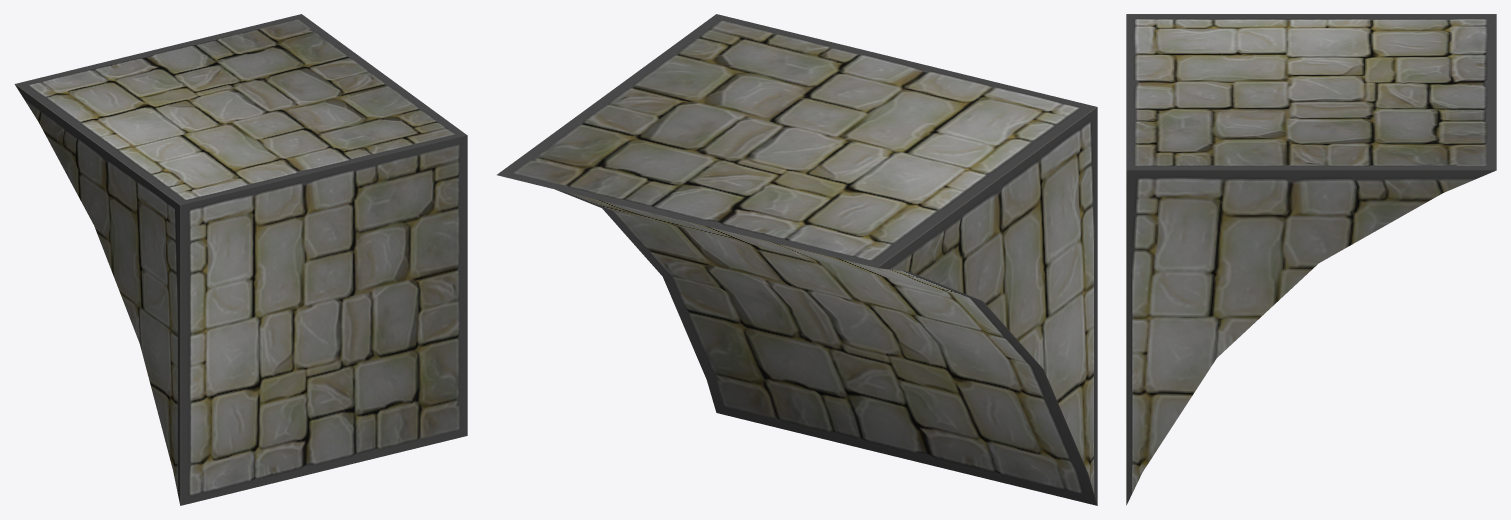
File: POL0310010.fbx
3 renders of one model, left to right at view 1: azimuth 30°, elevation 25°; view 2: azimuth 150°, elevation 25°; view 3: azimuth 270°, elevation 25°, orthographic. The views are drawn at different scales.
Visible parts, largest first — view 1: smPOL0310010; view 2: smPOL0310010; view 3: smPOL0310010.
Part boxes in pixels (<box>): smPOL0310010: <box>14,14,467,505</box>; smPOL0310010: <box>497,14,1097,505</box>; smPOL0310010: <box>1126,14,1496,505</box>.
Size of the model in its own units: 161 by 161 by 161.
Materials: 1 (1 with a texture image).
